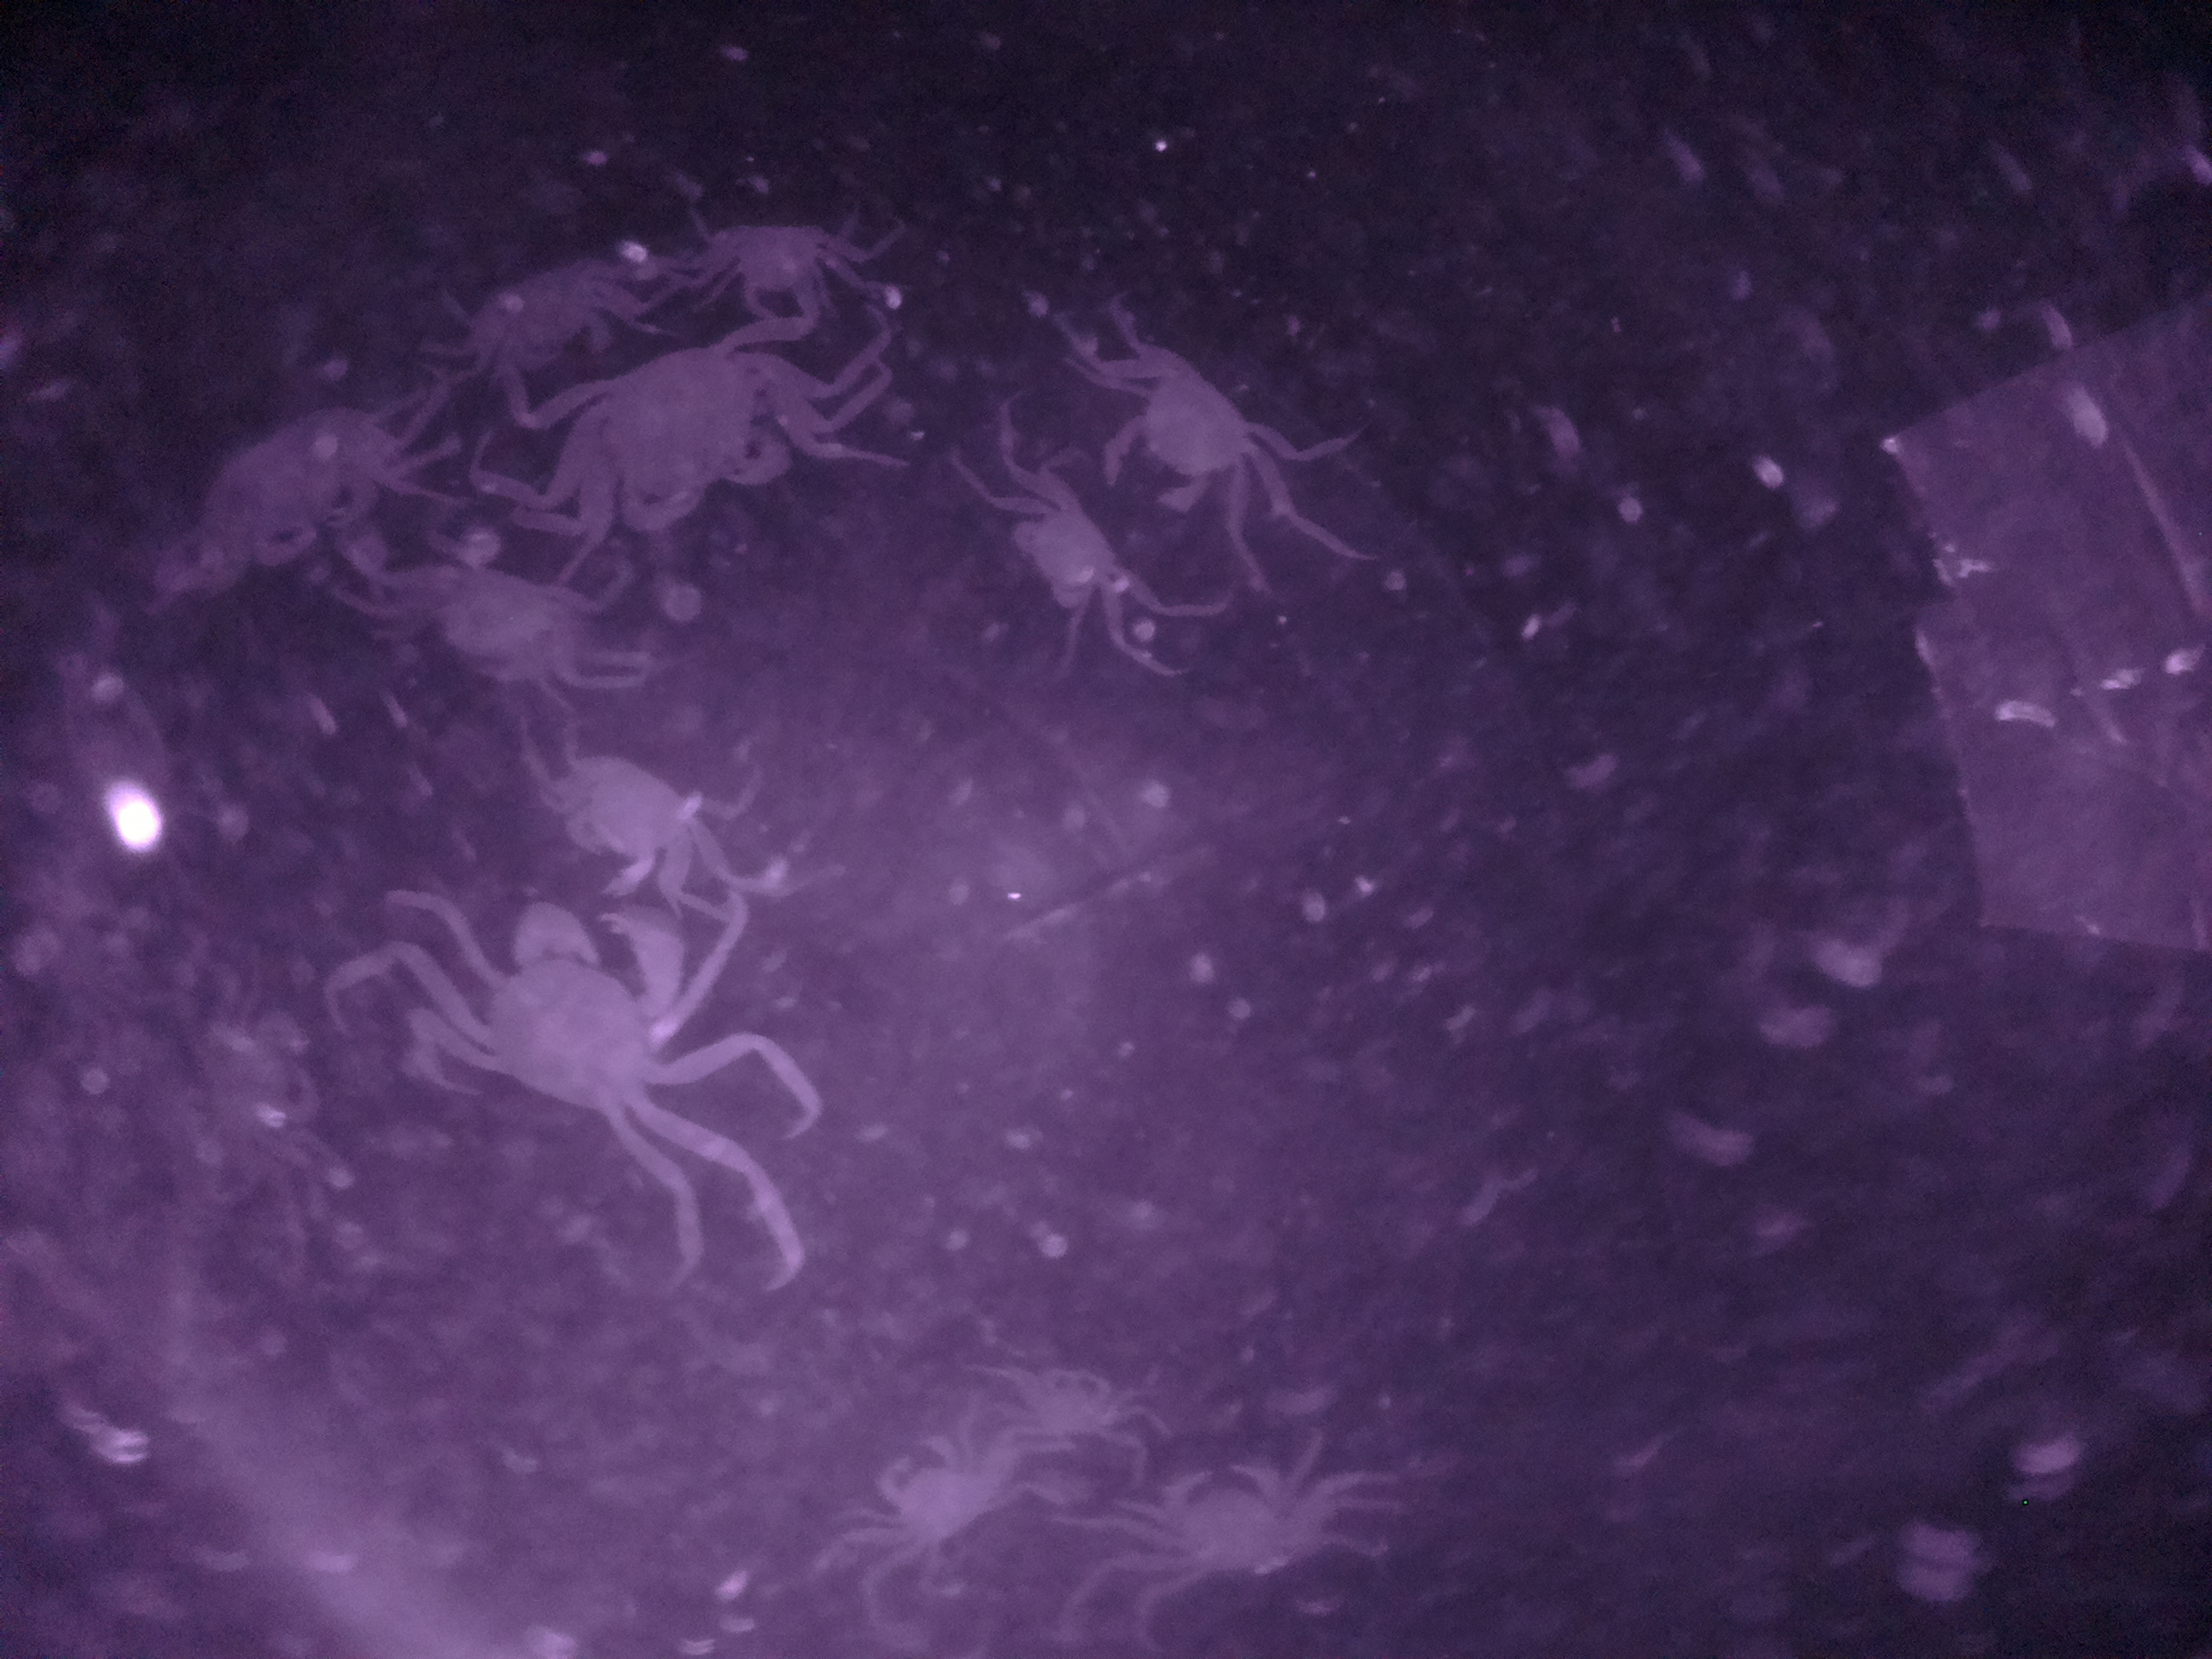Crab: (435, 875, 726, 1162), (543, 328, 831, 551), (183, 387, 432, 594), (516, 720, 751, 911), (1078, 328, 1280, 525), (1123, 1438, 1320, 1610), (843, 1412, 1007, 1565), (697, 207, 883, 336), (982, 497, 1130, 626), (1010, 1349, 1137, 1462)
